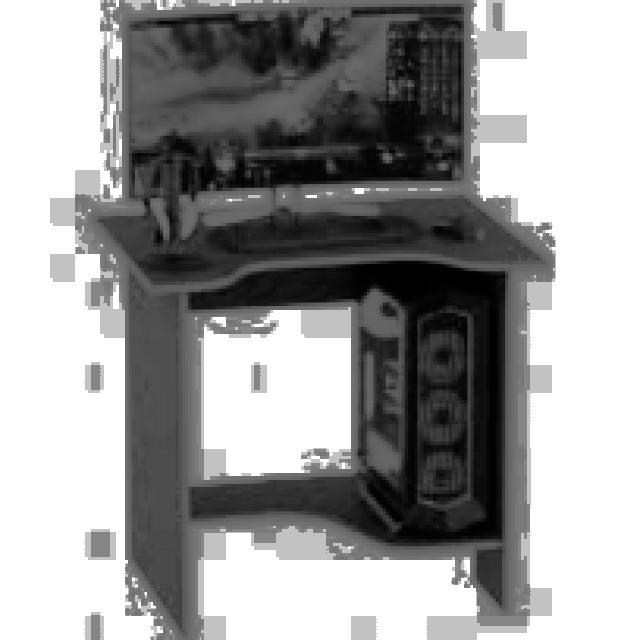table: (91, 188, 549, 636)
